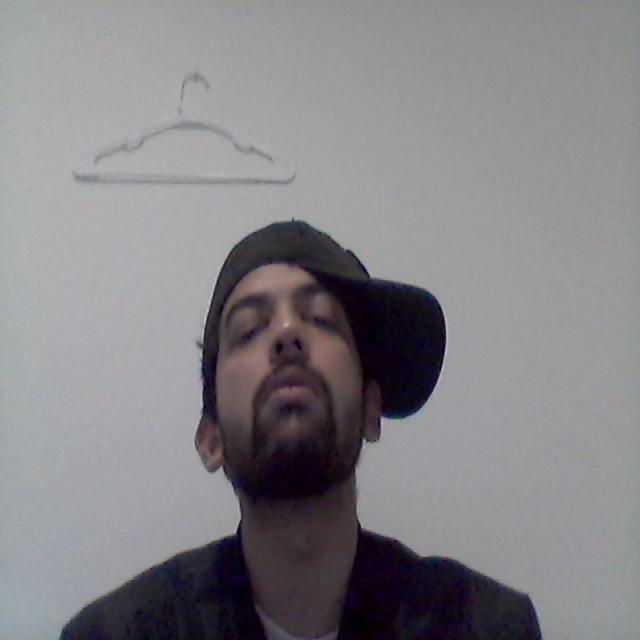cap: (153, 178, 458, 446)
